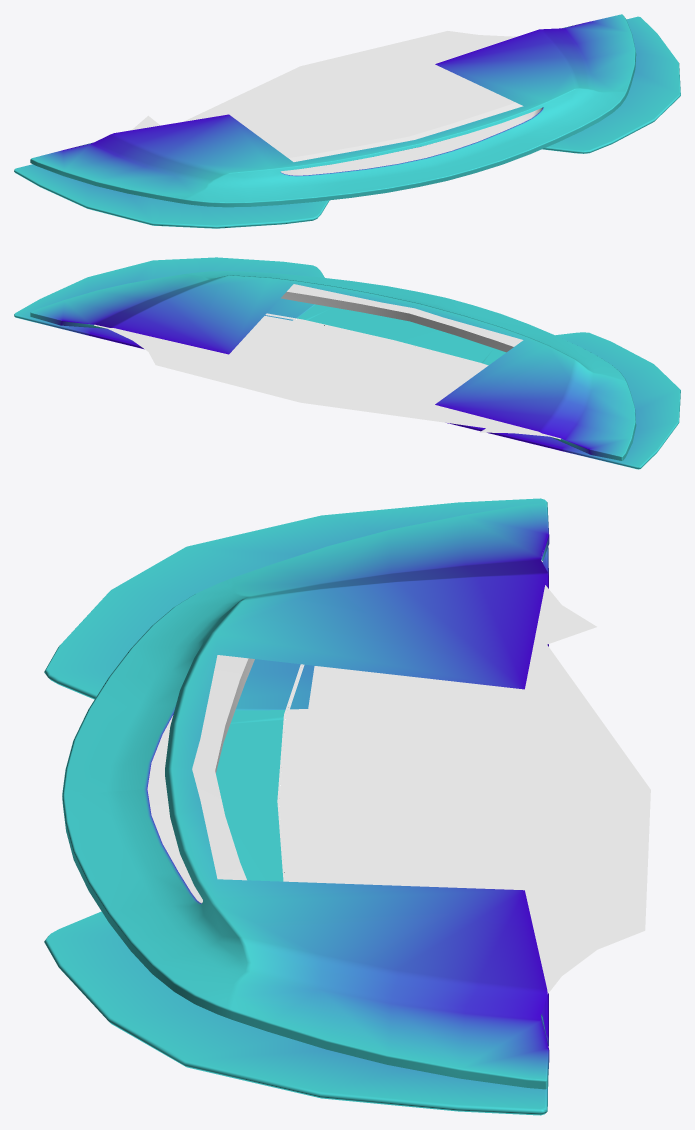
Rendered from Car_Ford_GT_2017_Splitter_SetBE_AltA.fbx.
The picture shows the model from 3 angles, top to bottom: view 1: azimuth 30°, elevation 25°; view 2: azimuth 150°, elevation 25°; view 3: azimuth 270°, elevation 25°; orthographic projection. The views are drawn at different scales.
Visible parts, largest first — view 1: Splitter 6; view 2: Splitter 6; view 3: Splitter 6.
Boxes of the visible parts, box(x1,y1,x2,y2) form: Splitter 6: box(14, 14, 680, 228); Splitter 6: box(14, 257, 680, 469); Splitter 6: box(44, 498, 650, 1115).
Size of the model in its own units: 2.02 by 0.0665 by 0.8448.
